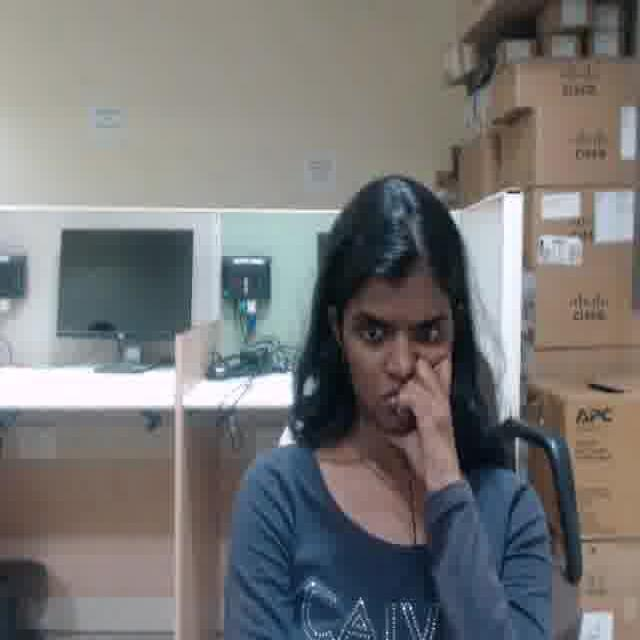Boredom: (343, 269, 451, 440)
